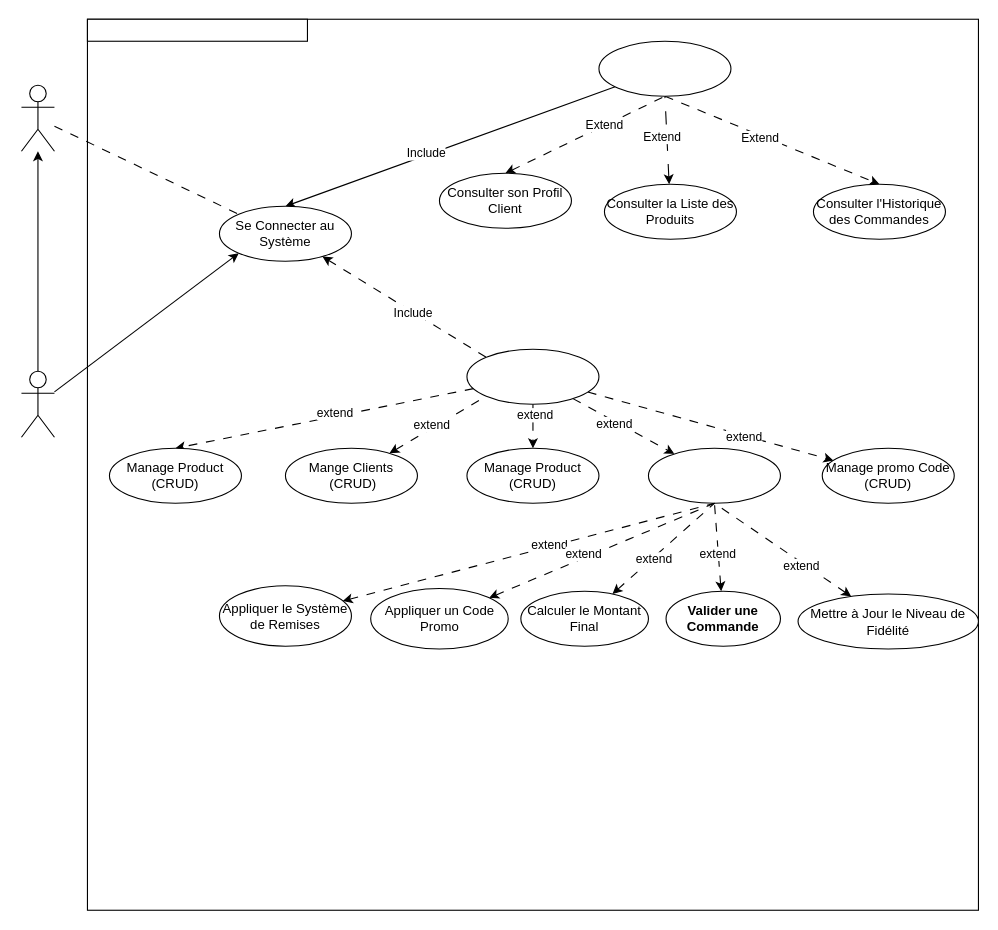
This 998x930 diagram has some shape labels left out. Here are the shapes that lost their labels. From the top down, the box of each, then its label:
(86, 18, 307, 41): SmartShop
(598, 40, 731, 96): views All Products
(20, 84, 54, 151): Client
(466, 348, 599, 404): views dashboard
(20, 370, 54, 437): Admin
(647, 447, 780, 503): Manage Orders (CRUD)
